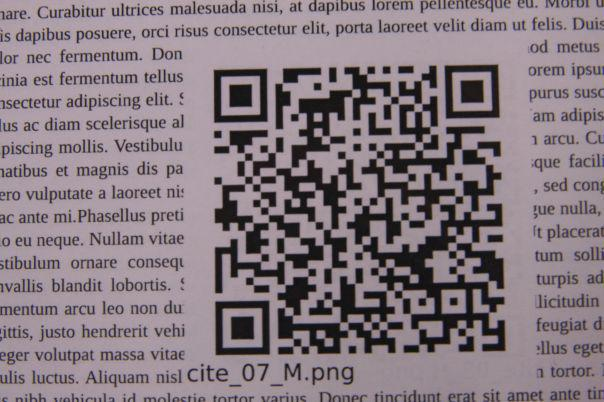Finder pattern: (211, 295, 275, 359), (441, 61, 504, 123), (211, 66, 274, 127)
